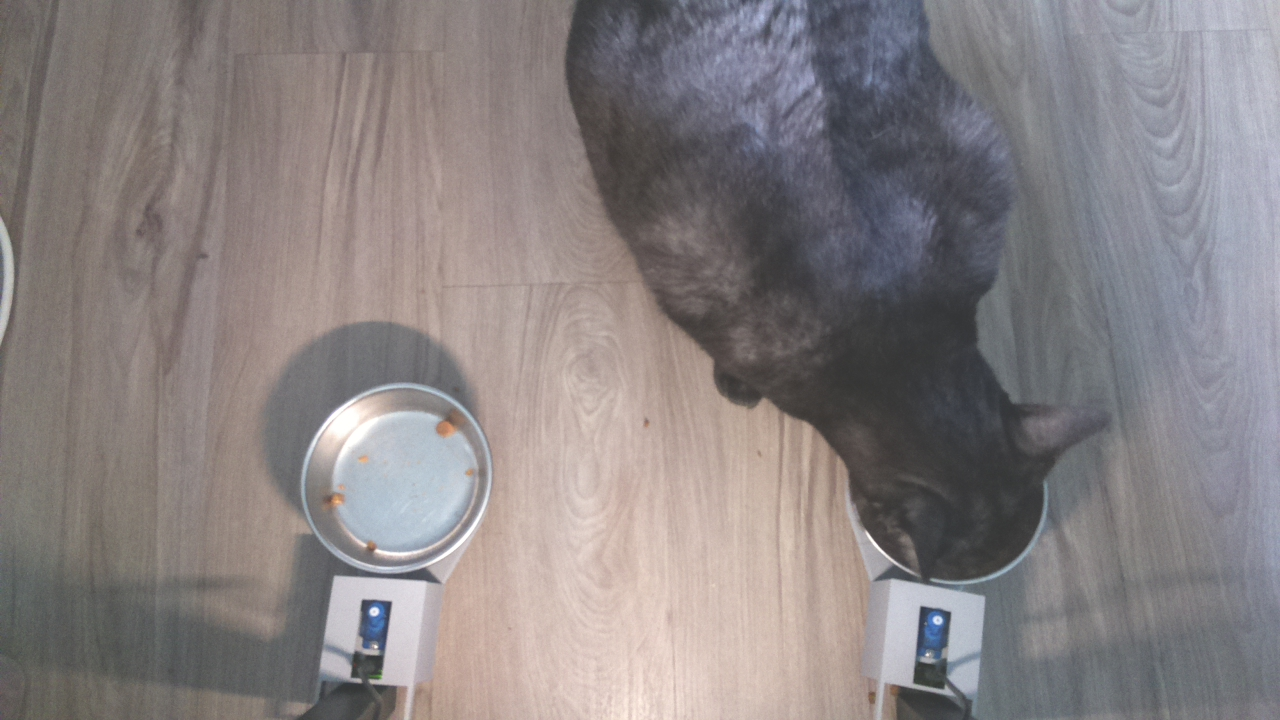open_bowl: (299, 380, 495, 580)
saki_eating: (832, 369, 1118, 587)
